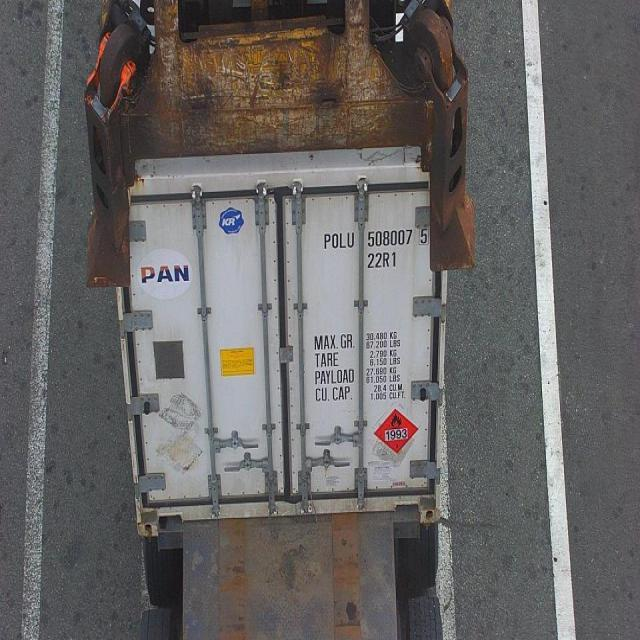ISO: (367, 250, 398, 270)
container_number: (322, 230, 428, 250)
